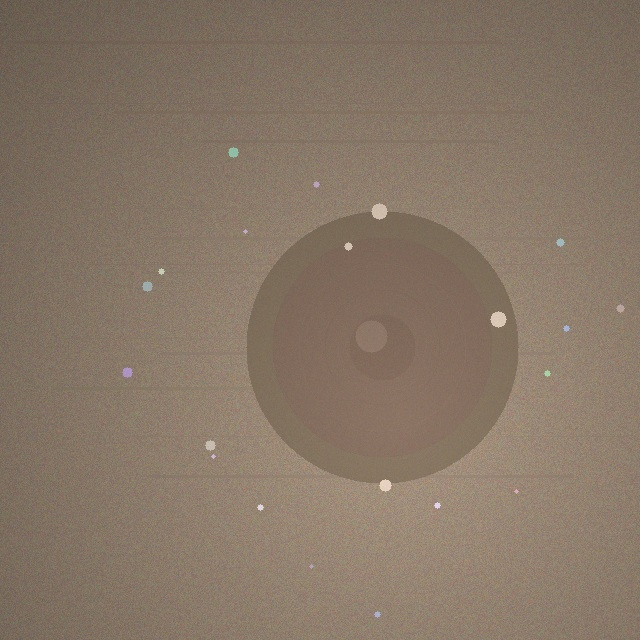overburn: (246, 211, 518, 483)
